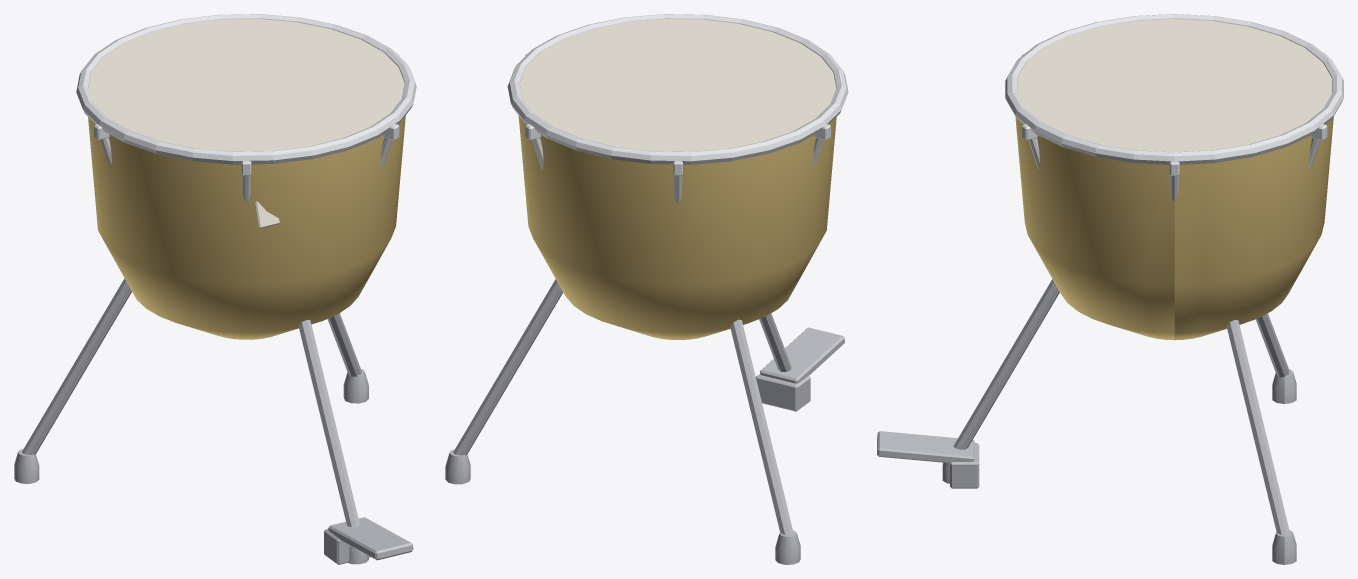
The model's file is orchestra-and-band-instruments-timpani-5f7a3856__39301.glb.
3 views of the same model, side by side, from view 1: azimuth 30°, elevation 25°; view 2: azimuth 150°, elevation 25°; view 3: azimuth 270°, elevation 25° (orthographic).
Parts seen in each view (by area): view 1: timpani; view 2: timpani; view 3: timpani.
Boxes of the visible parts, x1,y1,x2,y2 form: timpani: [14, 14, 416, 564]; timpani: [445, 14, 848, 564]; timpani: [877, 14, 1343, 564].
Bounding box in the file's own units: 0.8315 × 0.894 × 0.9556.
